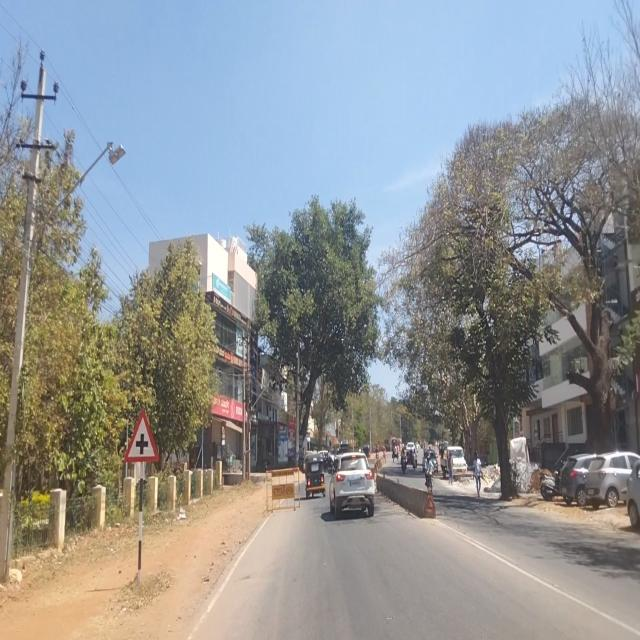bien_cam: (125, 408, 158, 464)
